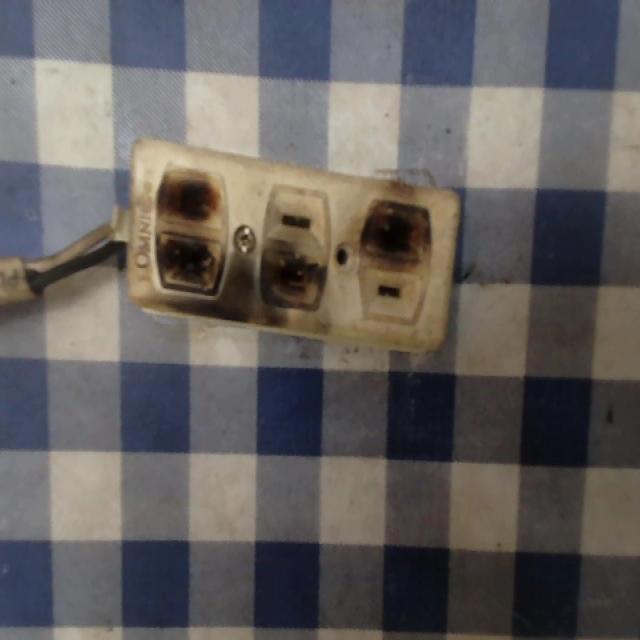-: (149, 159, 233, 308), (252, 240, 339, 335), (346, 182, 439, 266)
